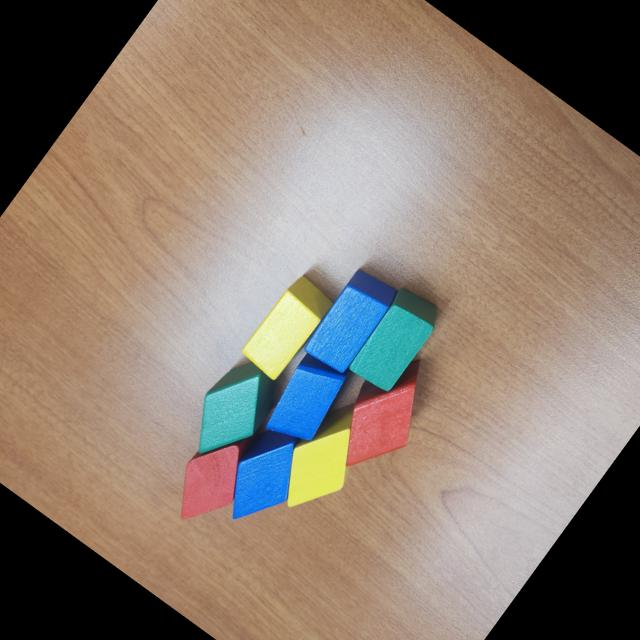blue: (207, 417, 319, 538), (246, 344, 354, 461), (299, 263, 401, 377)
green: (172, 349, 290, 475), (342, 282, 447, 398)
red: (317, 340, 451, 487), (159, 416, 268, 536)
yellow: (262, 388, 387, 526), (237, 271, 336, 381)
